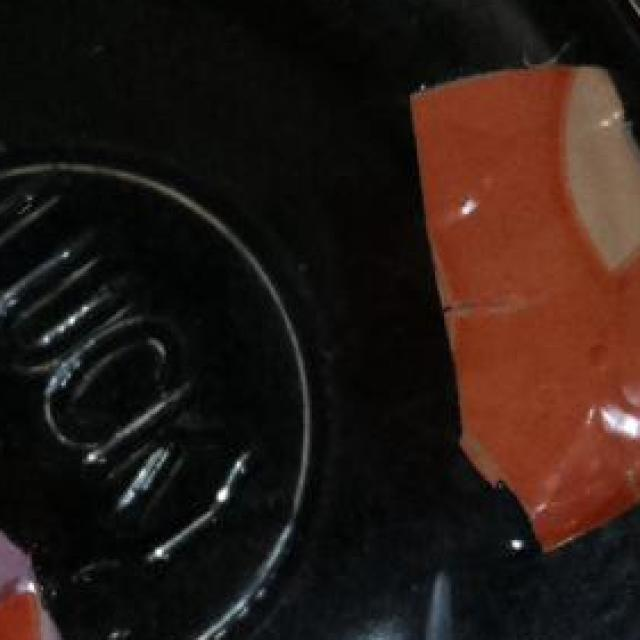Microplastic: (382, 66, 640, 561)
